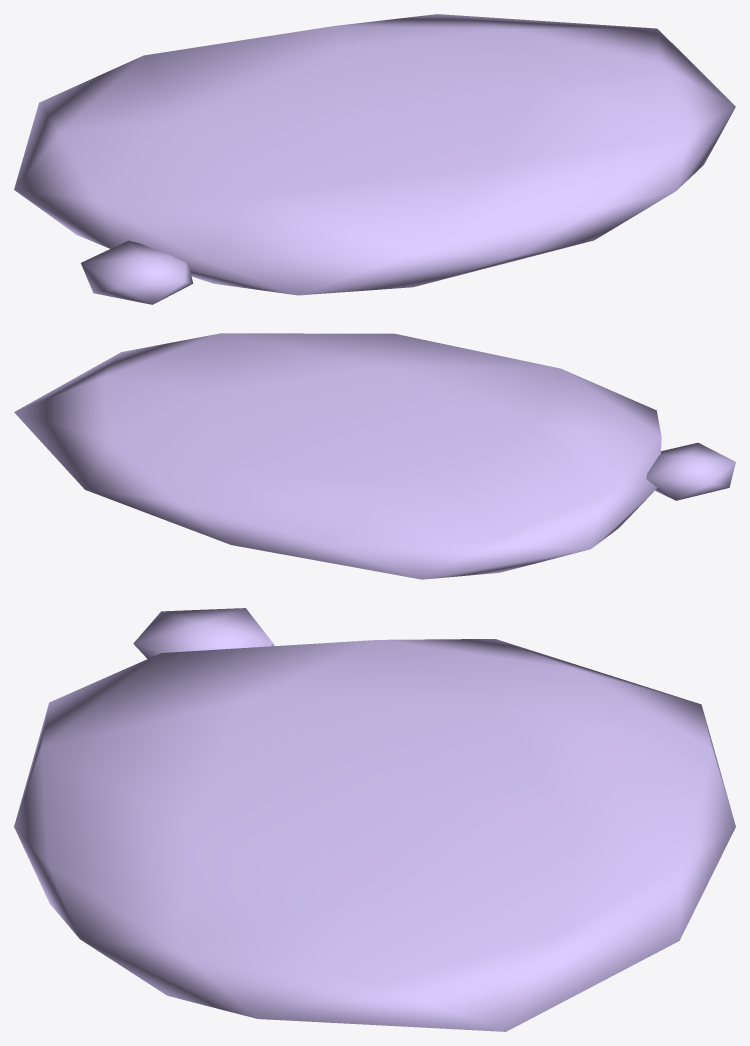
The model's file is Lake_WaxPad1.fbx.
The picture shows the model from 3 angles, top to bottom: view 1: azimuth 30°, elevation 25°; view 2: azimuth 150°, elevation 25°; view 3: azimuth 270°, elevation 25°; orthographic projection. The views are drawn at different scales.
Parts seen in each view (by area): view 1: Lake_WaxPad1; view 2: Lake_WaxPad1; view 3: Lake_WaxPad1.
Part boxes in pixels (x1,y1,x2,y2): Lake_WaxPad1: [14, 14, 735, 304]; Lake_WaxPad1: [14, 333, 735, 579]; Lake_WaxPad1: [14, 608, 735, 1031].
Size of the model in its own units: 4.1 by 0.3512 by 3.
